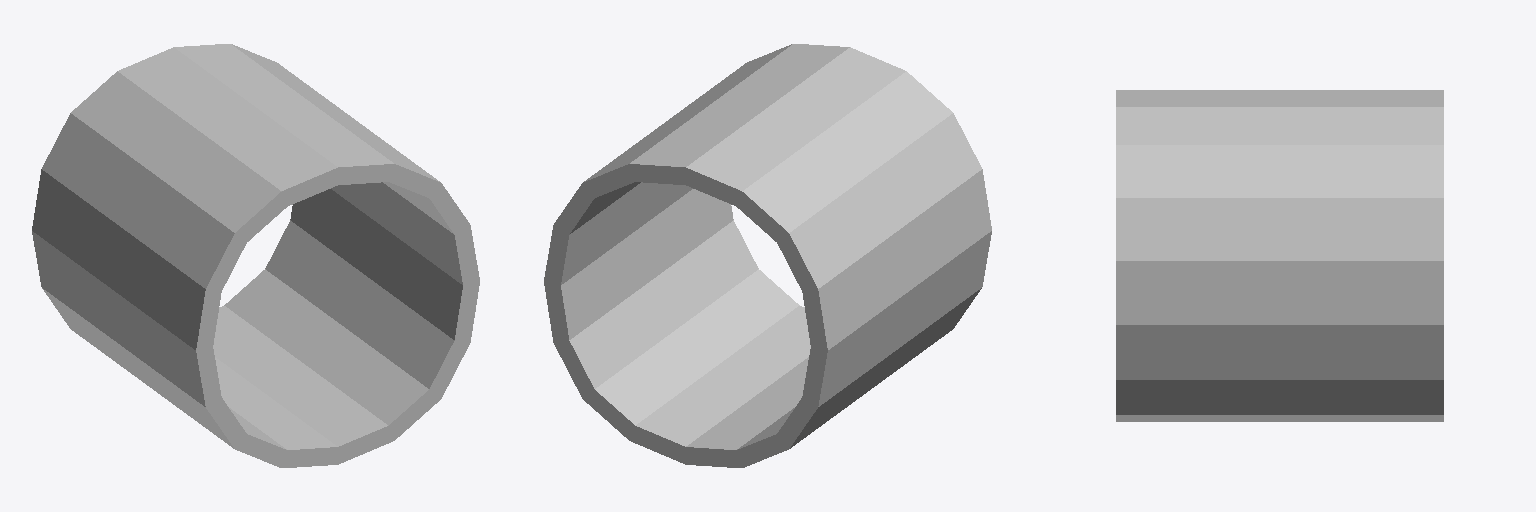
Rendered from Pipe.obj.
The picture shows the model from 3 angles: view 1: azimuth 30°, elevation 25°; view 2: azimuth 150°, elevation 25°; view 3: azimuth 270°, elevation 25°; orthographic projection.
Visible parts, largest first — view 1: Pipe__Cube.001; view 2: Pipe__Cube.001; view 3: Pipe__Cube.001.
Boxes of the visible parts, <box> form: Pipe__Cube.001: <box>32,44,479,467</box>; Pipe__Cube.001: <box>544,44,991,467</box>; Pipe__Cube.001: <box>1116,90,1443,421</box>.
Bounding box in the file's own units: 0.6542 × 0.6542 × 0.6553.